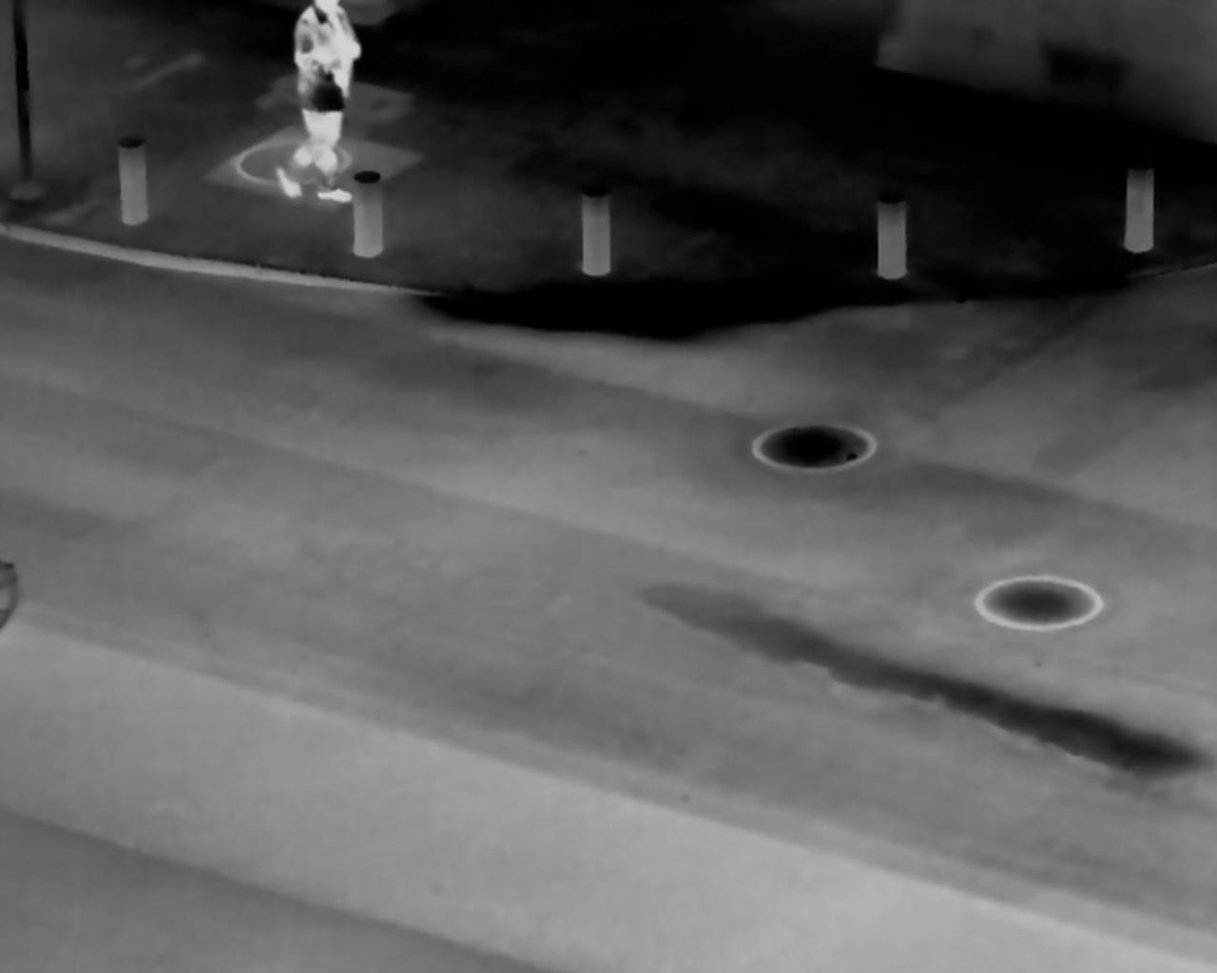person: (282, 6, 374, 206)
